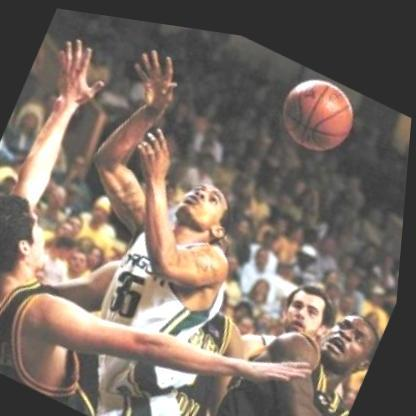basketball: (261, 48, 374, 164)
